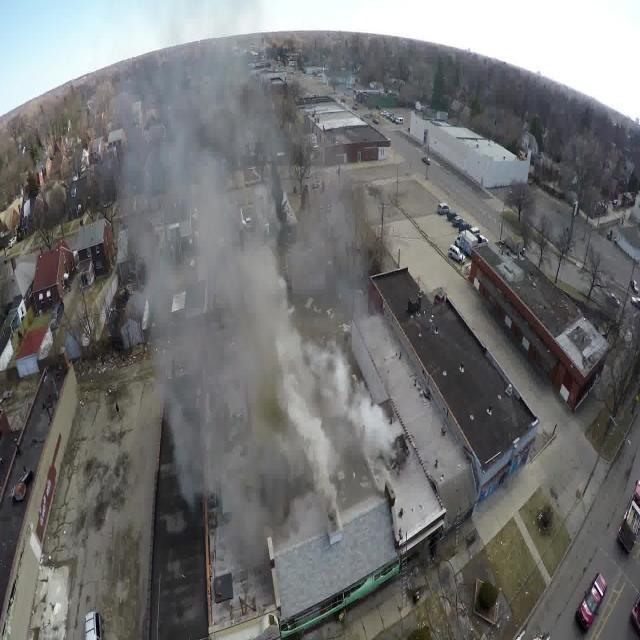Smoke: (0, 0, 404, 520)
